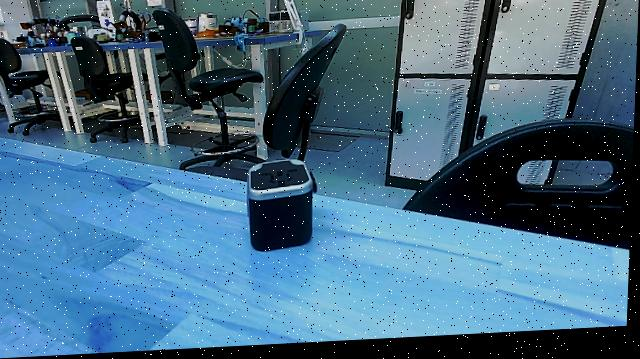adapter: (240, 153, 323, 269)
